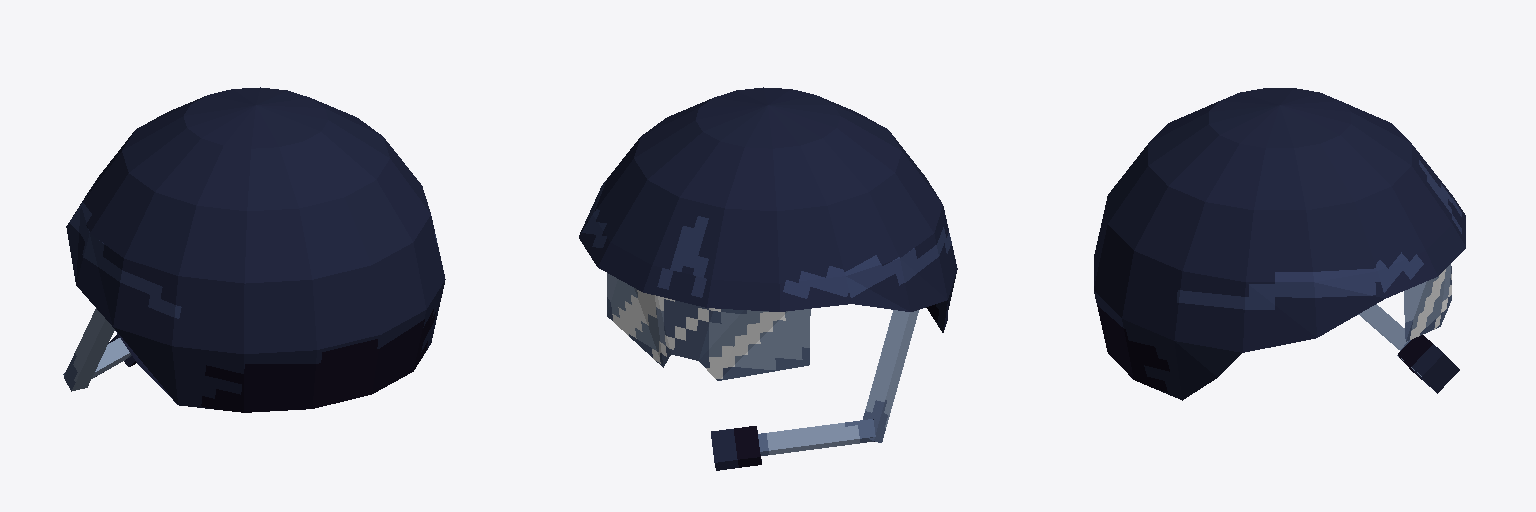
3 renders of one model, left to right at view 1: azimuth 30°, elevation 25°; view 2: azimuth 150°, elevation 25°; view 3: azimuth 270°, elevation 25°, orthographic.
Visible parts, largest first — view 1: sphere, cuboid; view 2: sphere, cuboid; view 3: sphere, cuboid.
Part boxes in pixels (left/top/right/bottom): sphere: left=66, top=87, right=445, bottom=412; cuboid: left=63, top=308, right=136, bottom=391; sphere: left=579, top=87, right=957, bottom=380; cuboid: left=711, top=310, right=918, bottom=470; sphere: left=1094, top=88, right=1465, bottom=400; cuboid: left=1358, top=304, right=1459, bottom=393.
Size of the model in its own units: 1 by 0.8922 by 1.
1 materials, 1 textured.